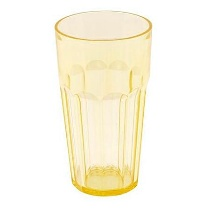glass: (43, 6, 162, 201)
